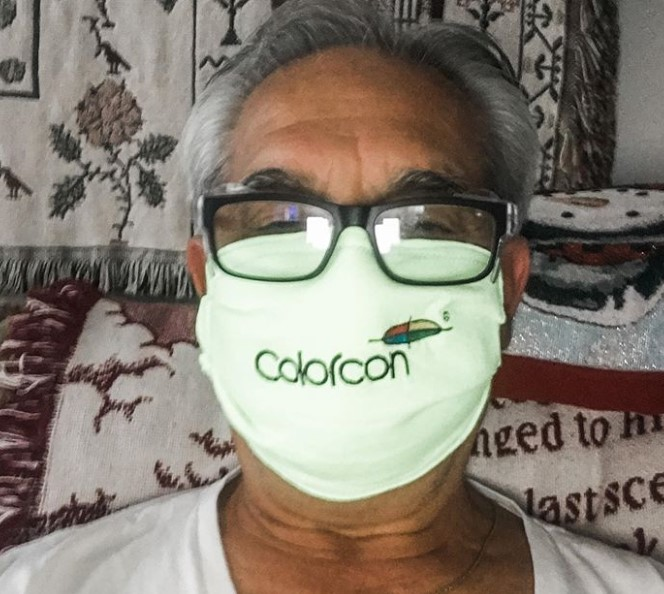face_with_mask: (189, 43, 535, 498)
